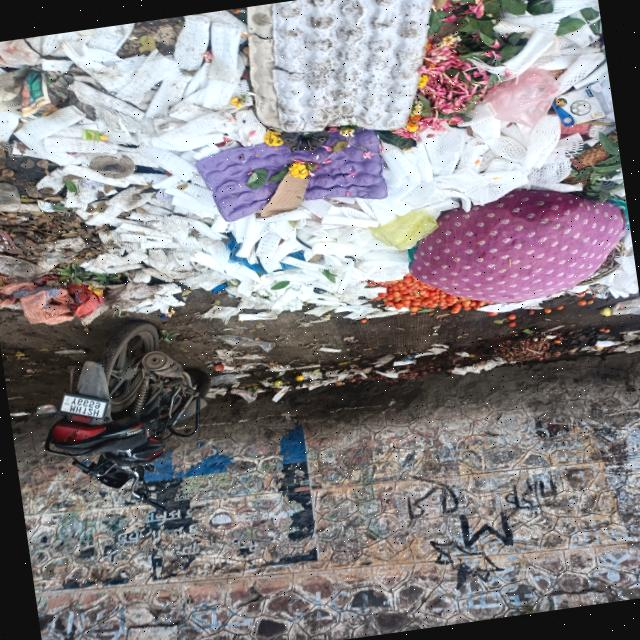garbage: (0, 0, 637, 368), (214, 312, 640, 413)
